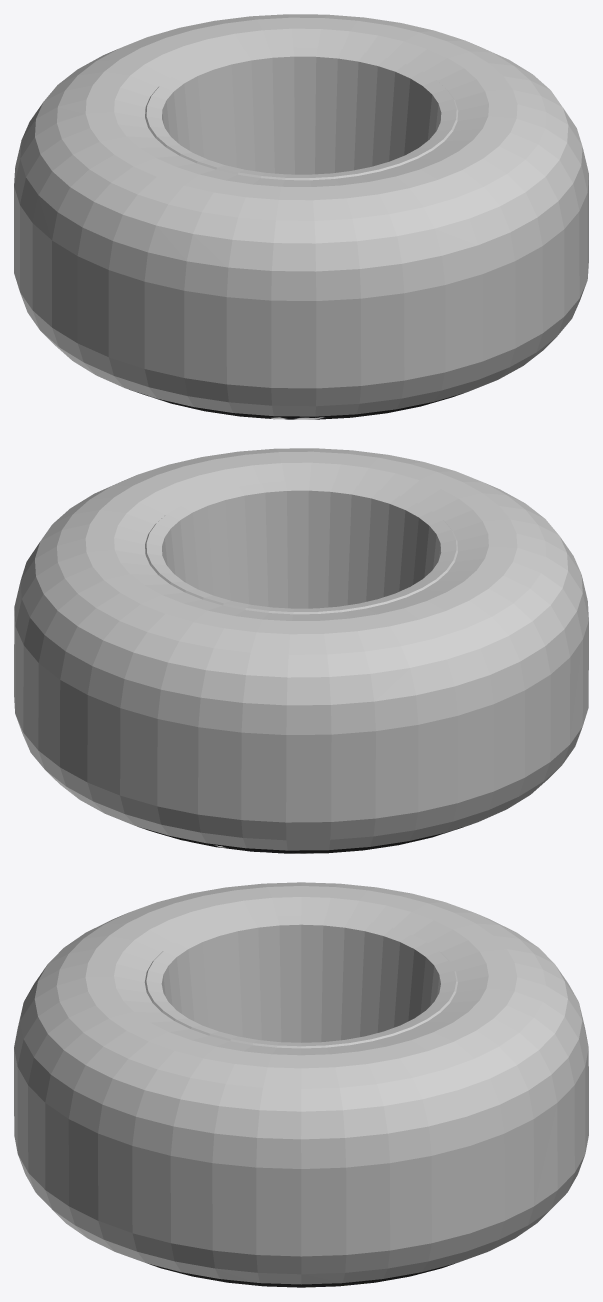
The model's file is VI_Racer_RT_whr_front_wheel.obj.
3 views of the same model, one above another, from view 1: azimuth 30°, elevation 25°; view 2: azimuth 150°, elevation 25°; view 3: azimuth 270°, elevation 25° (orthographic).
Visible parts, largest first — view 1: Mesh.011_object__43.001; view 2: Mesh.011_object__43.001; view 3: Mesh.011_object__43.001.
Boxes of the visible parts, x1,y1,x2,y2 form: Mesh.011_object__43.001: [14, 14, 588, 419]; Mesh.011_object__43.001: [14, 448, 588, 853]; Mesh.011_object__43.001: [14, 882, 588, 1287].
Size of the model in its own units: 508 by 212 by 508.
